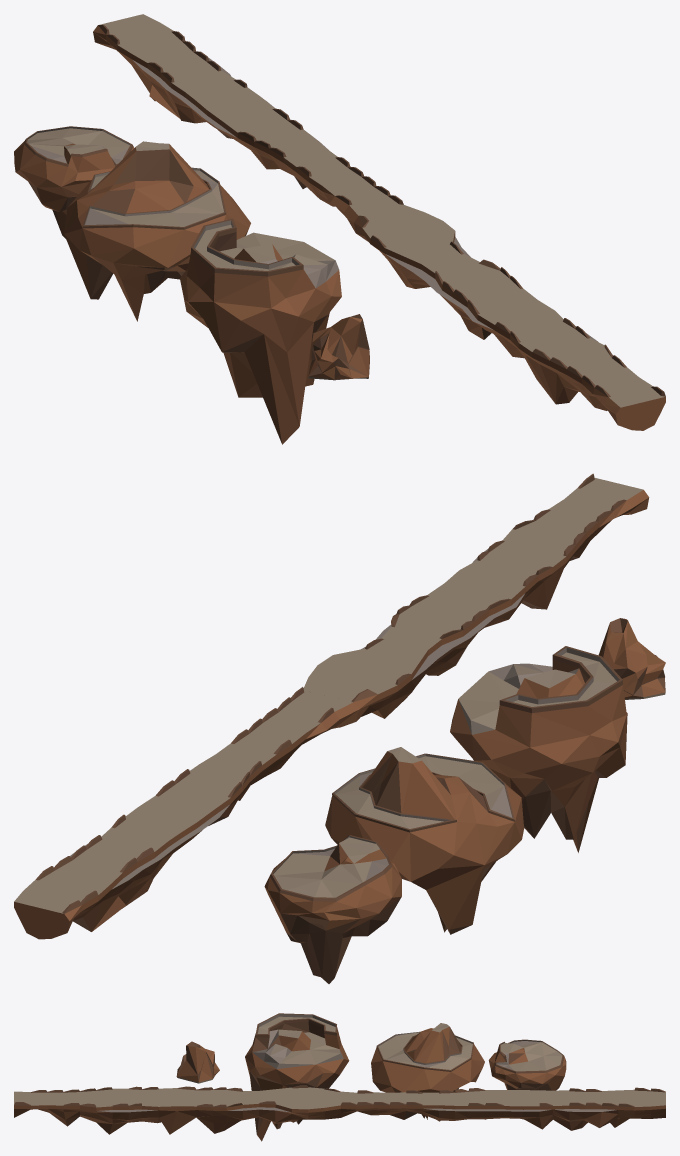
File: PullTierra01.fbx
The picture shows the model from 3 angles, top to bottom: view 1: azimuth 30°, elevation 25°; view 2: azimuth 150°, elevation 25°; view 3: azimuth 270°, elevation 25°; orthographic projection. The views are drawn at different scales.
Visible parts, largest first — view 1: TierraFlotante01, Escenario01, TierraFlotante02, Escenario02, TierraFlotante03, RocaCamino01; view 2: Escenario01, Escenario02, TierraFlotante01, TierraFlotante02, TierraFlotante03, RocaCamino01; view 3: Escenario01, Escenario02, TierraFlotante01, TierraFlotante02, TierraFlotante03, RocaCamino01.
Boxes of the visible parts, bbox=[...] form: TierraFlotante01: bbox=[180, 218, 341, 444]; Escenario01: bbox=[354, 205, 665, 430]; TierraFlotante02: bbox=[64, 141, 250, 321]; Escenario02: bbox=[93, 14, 403, 232]; TierraFlotante03: bbox=[14, 126, 133, 238]; RocaCamino01: bbox=[308, 314, 369, 380]; Escenario01: bbox=[303, 473, 649, 727]; Escenario02: bbox=[14, 687, 358, 939]; TierraFlotante01: bbox=[450, 646, 627, 852]; TierraFlotante02: bbox=[325, 747, 524, 934]; TierraFlotante03: bbox=[264, 835, 401, 983]; RocaCamino01: bbox=[598, 618, 665, 699]; Escenario01: bbox=[14, 1085, 340, 1134]; Escenario02: bbox=[341, 1087, 665, 1130]; TierraFlotante01: bbox=[245, 1013, 349, 1141]; TierraFlotante02: bbox=[371, 1023, 484, 1119]; TierraFlotante03: bbox=[488, 1039, 566, 1090]; RocaCamino01: bbox=[176, 1041, 219, 1083].
Size of the model in its own units: 485 by 328 by 1630.
